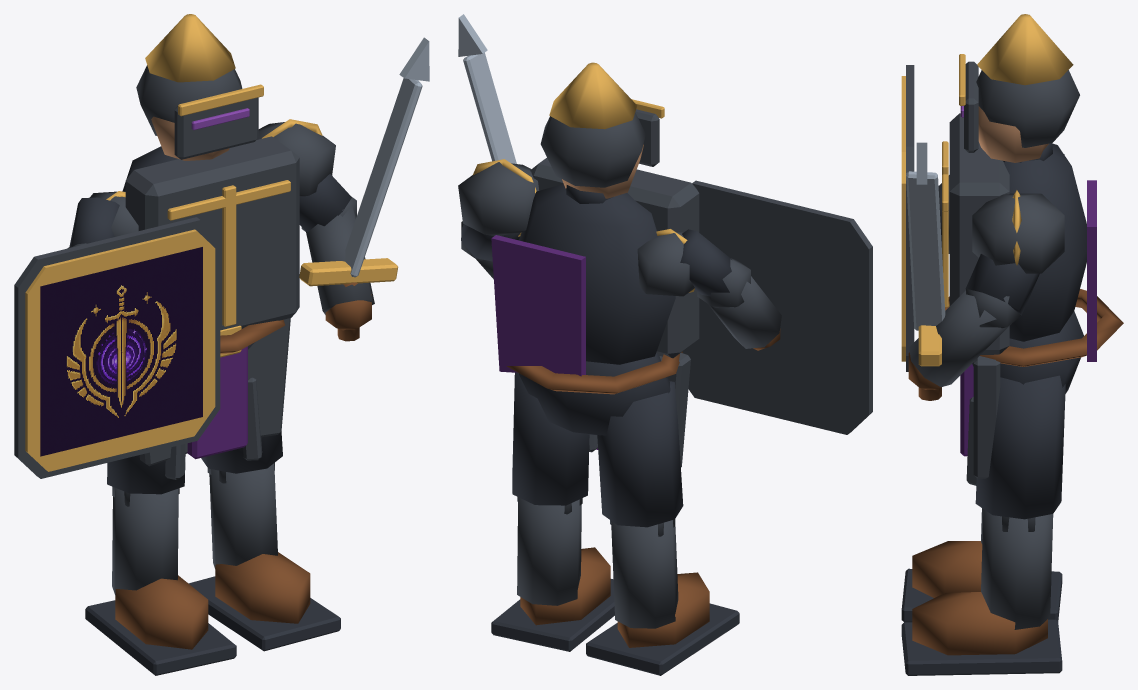
3 views of the same model, side by side, from view 1: azimuth 30°, elevation 25°; view 2: azimuth 150°, elevation 25°; view 3: azimuth 270°, elevation 25° (orthographic). The views are drawn at different scales.
Visible parts, largest first — view 1: WK_Hegemony_Legionary_LOD2_Compact_Static; view 2: WK_Hegemony_Legionary_LOD2_Compact_Static; view 3: WK_Hegemony_Legionary_LOD2_Compact_Static.
Boxes of the visible parts, box(x1,y1,x2,y2) form: WK_Hegemony_Legionary_LOD2_Compact_Static: box(14, 14, 429, 675); WK_Hegemony_Legionary_LOD2_Compact_Static: box(458, 14, 872, 675); WK_Hegemony_Legionary_LOD2_Compact_Static: box(901, 14, 1123, 675).
Bounding box in the file's own units: 1.48 × 2.03 × 0.6685.
9 materials, 1 textured.
